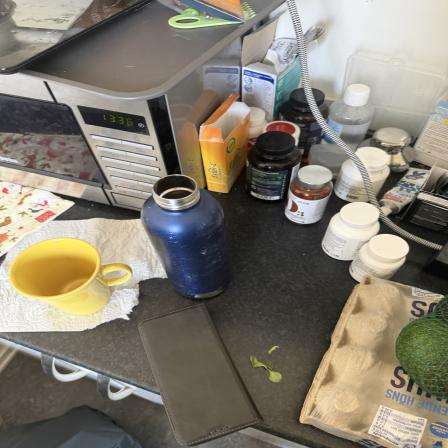blue_bottle: (137, 173, 235, 300)
phone: (132, 304, 263, 445)
yellow_cup: (12, 237, 136, 318)
